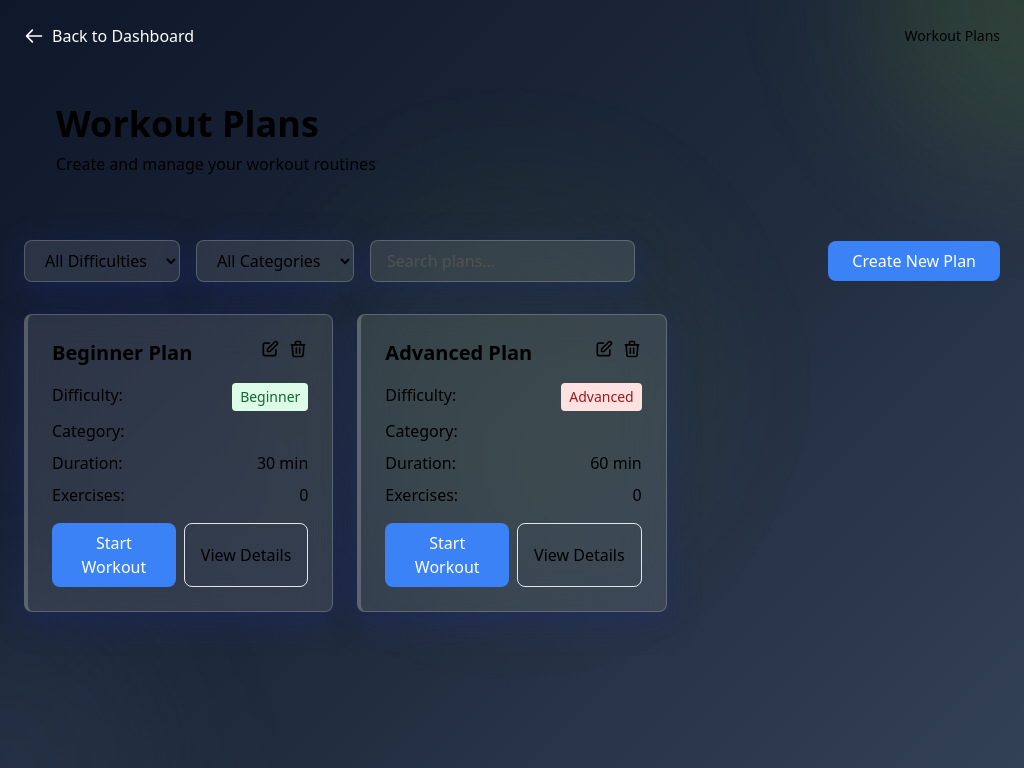
Test case: PlansPage › filters plans by difficulty
Expected: the heading "Beginner Plan" is shown, [52,339,192,367]
Expected: the heading "Advanced Plan" is shown, [385,339,532,367]
In the field with placeholder "Search plans...": (502, 261) [370,240,635,282], type "beginner"
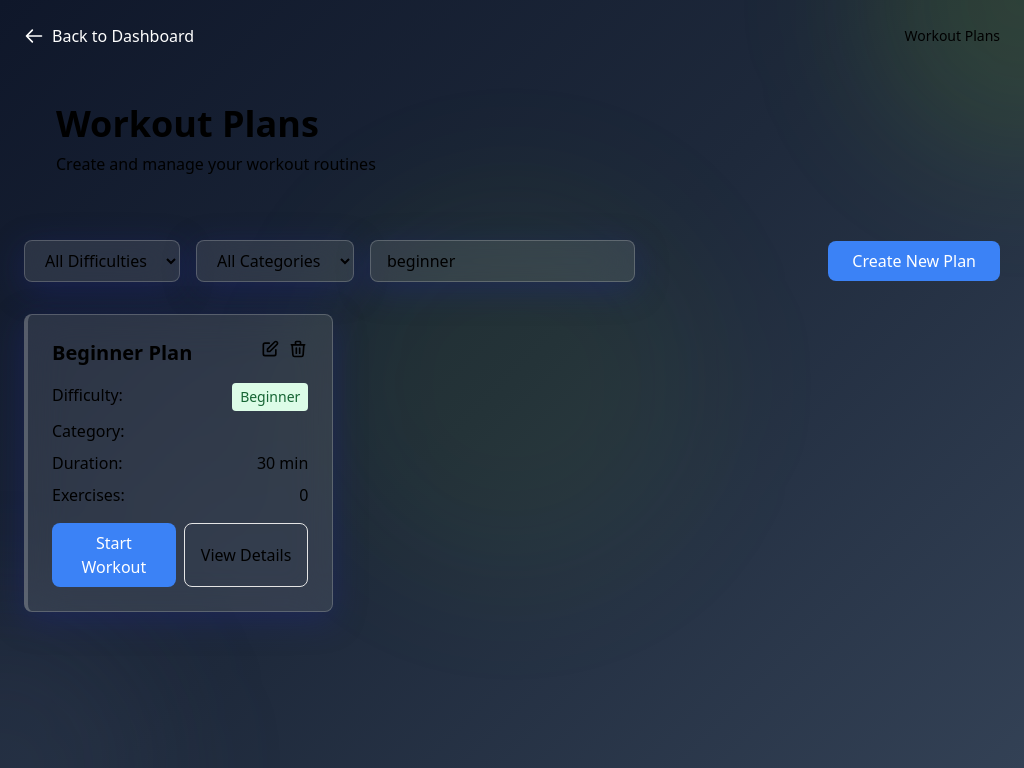
Expected: the heading "Beginner Plan" is shown, [52,339,192,367]
Now the heading "Advanced Plan" is gone
